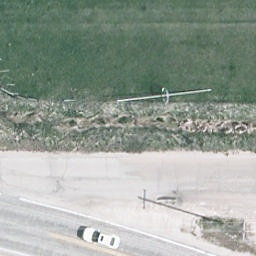car: (81, 227, 122, 252)
